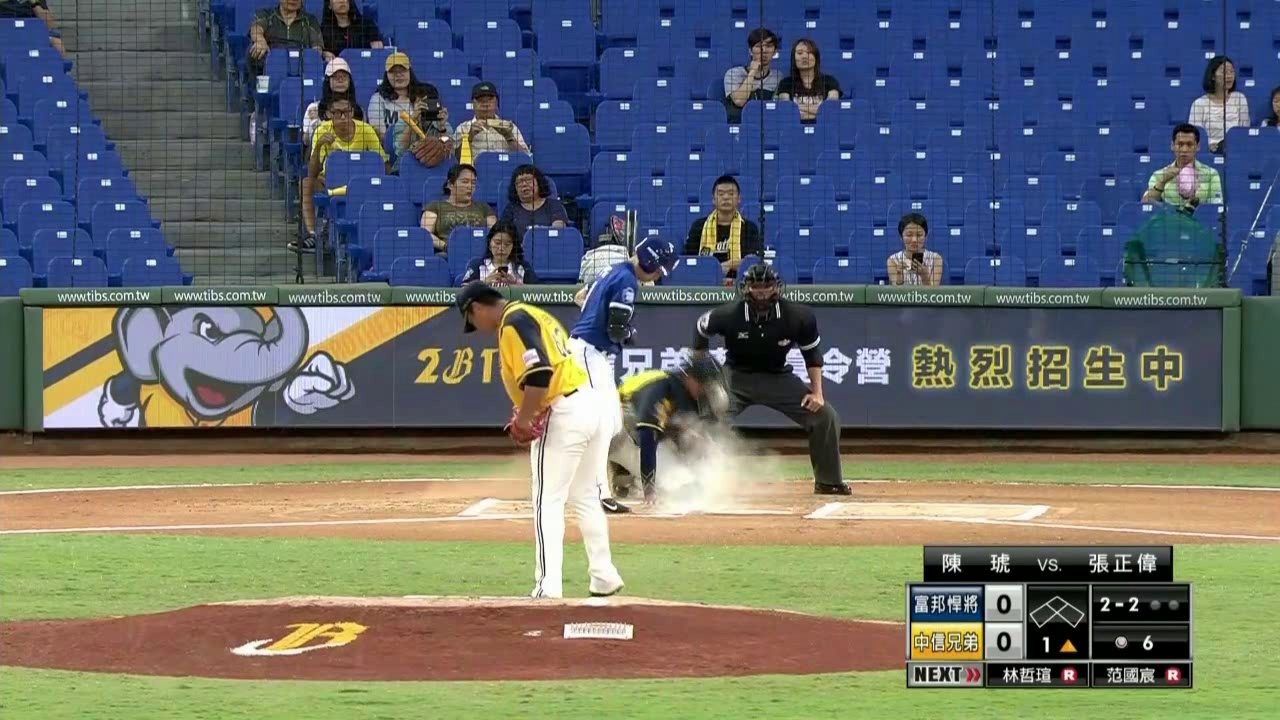base: (1030, 588, 1087, 632)
bat: (625, 210, 634, 252)
out: (1149, 592, 1185, 612)
score1: (988, 588, 1020, 620)
score2: (986, 628, 1020, 664)
session: (1030, 633, 1087, 661)
strikeball: (1097, 590, 1145, 615)
total: (1108, 631, 1162, 658)
